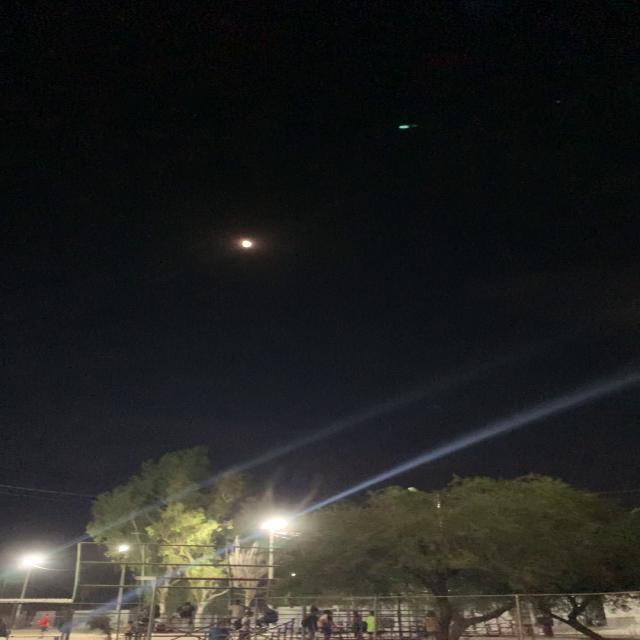moon: (222, 228, 270, 258)
